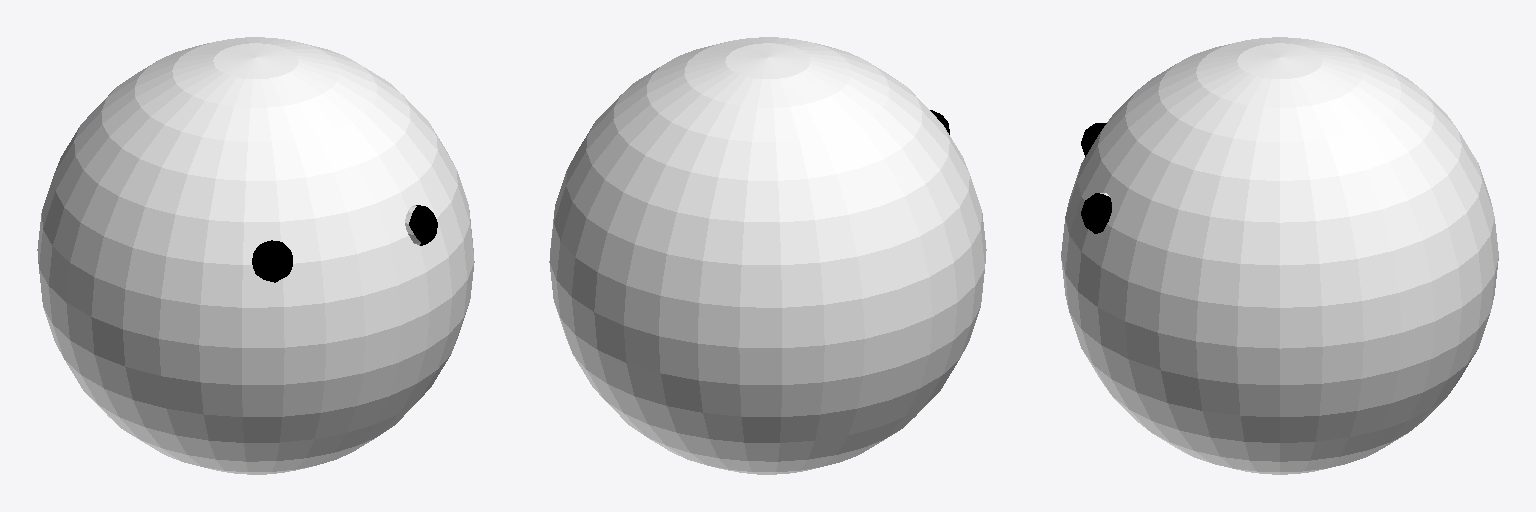
3 renders of one model, left to right at view 1: azimuth 30°, elevation 25°; view 2: azimuth 150°, elevation 25°; view 3: azimuth 270°, elevation 25°, orthographic.
Visible parts, largest first — view 1: ICO球.001; view 2: ICO球.001; view 3: ICO球.001.
Part boxes in pixels (left/top/right/bottom): ICO球.001: left=37, top=37, right=474, bottom=474; ICO球.001: left=549, top=37, right=986, bottom=474; ICO球.001: left=1061, top=37, right=1498, bottom=474.
Bounding box in the file's own units: 2 × 2 × 2.
Materials: 1 (1 with a texture image).